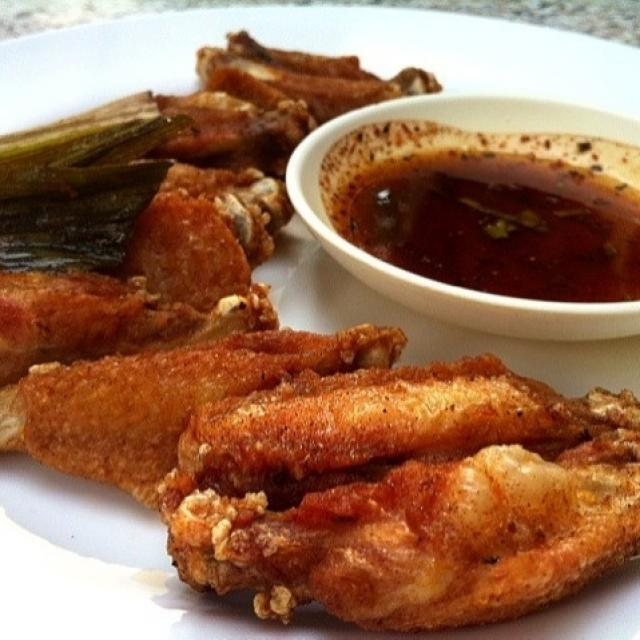Deep fried chicken wing: (19, 314, 639, 638)
